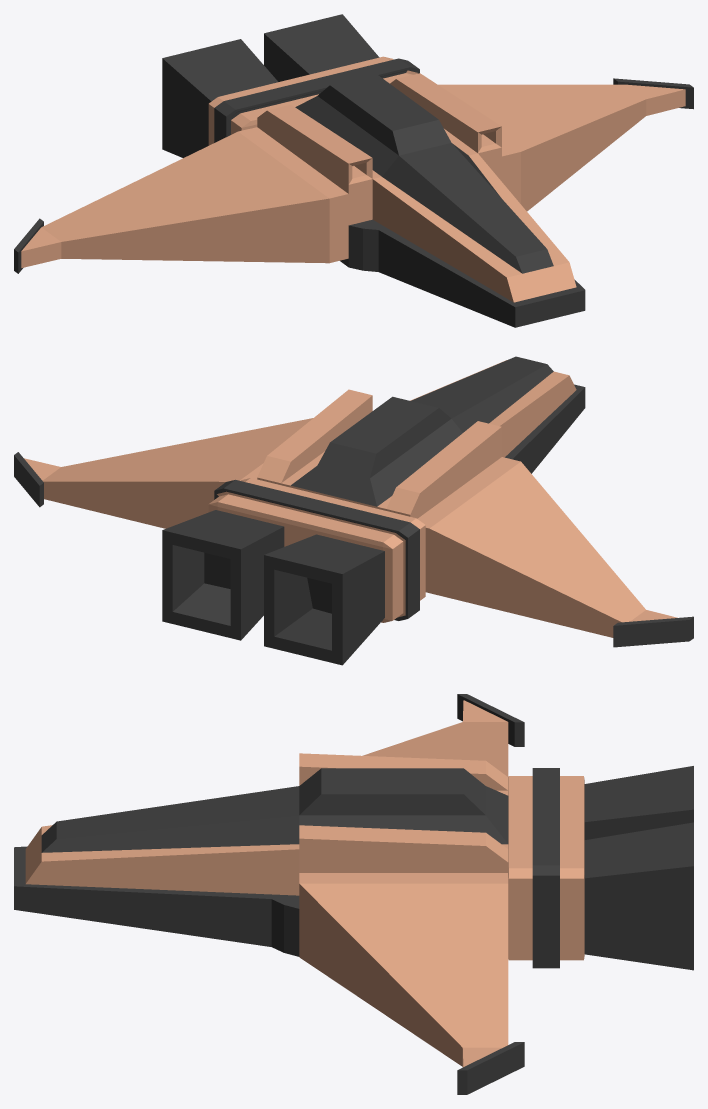
File: Ship1.fbx
The picture shows the model from 3 angles, top to bottom: view 1: azimuth 30°, elevation 25°; view 2: azimuth 150°, elevation 25°; view 3: azimuth 270°, elevation 25°; orthographic projection. The views are drawn at different scales.
Visible parts, largest first — view 1: Wing, ArmorPlate, Jet; view 2: Wing, Jet, ArmorPlate; view 3: ArmorPlate, Wing, Jet.
Part boxes in pixels (left/top/right/bottom): Wing: left=14, top=78, right=693, bottom=273; ArmorPlate: left=257, top=73, right=585, bottom=327; Jet: left=162, top=14, right=419, bottom=157; Wing: left=14, top=418, right=693, bottom=647; Jet: left=162, top=478, right=425, bottom=665; ArmorPlate: left=257, top=356, right=585, bottom=518; ArmorPlate: left=14, top=753, right=508, bottom=956; Wing: left=299, top=694, right=524, bottom=1094; Jet: left=508, top=766, right=693, bottom=970.
Bounding box in the file's own units: 852 × 147 × 651.
